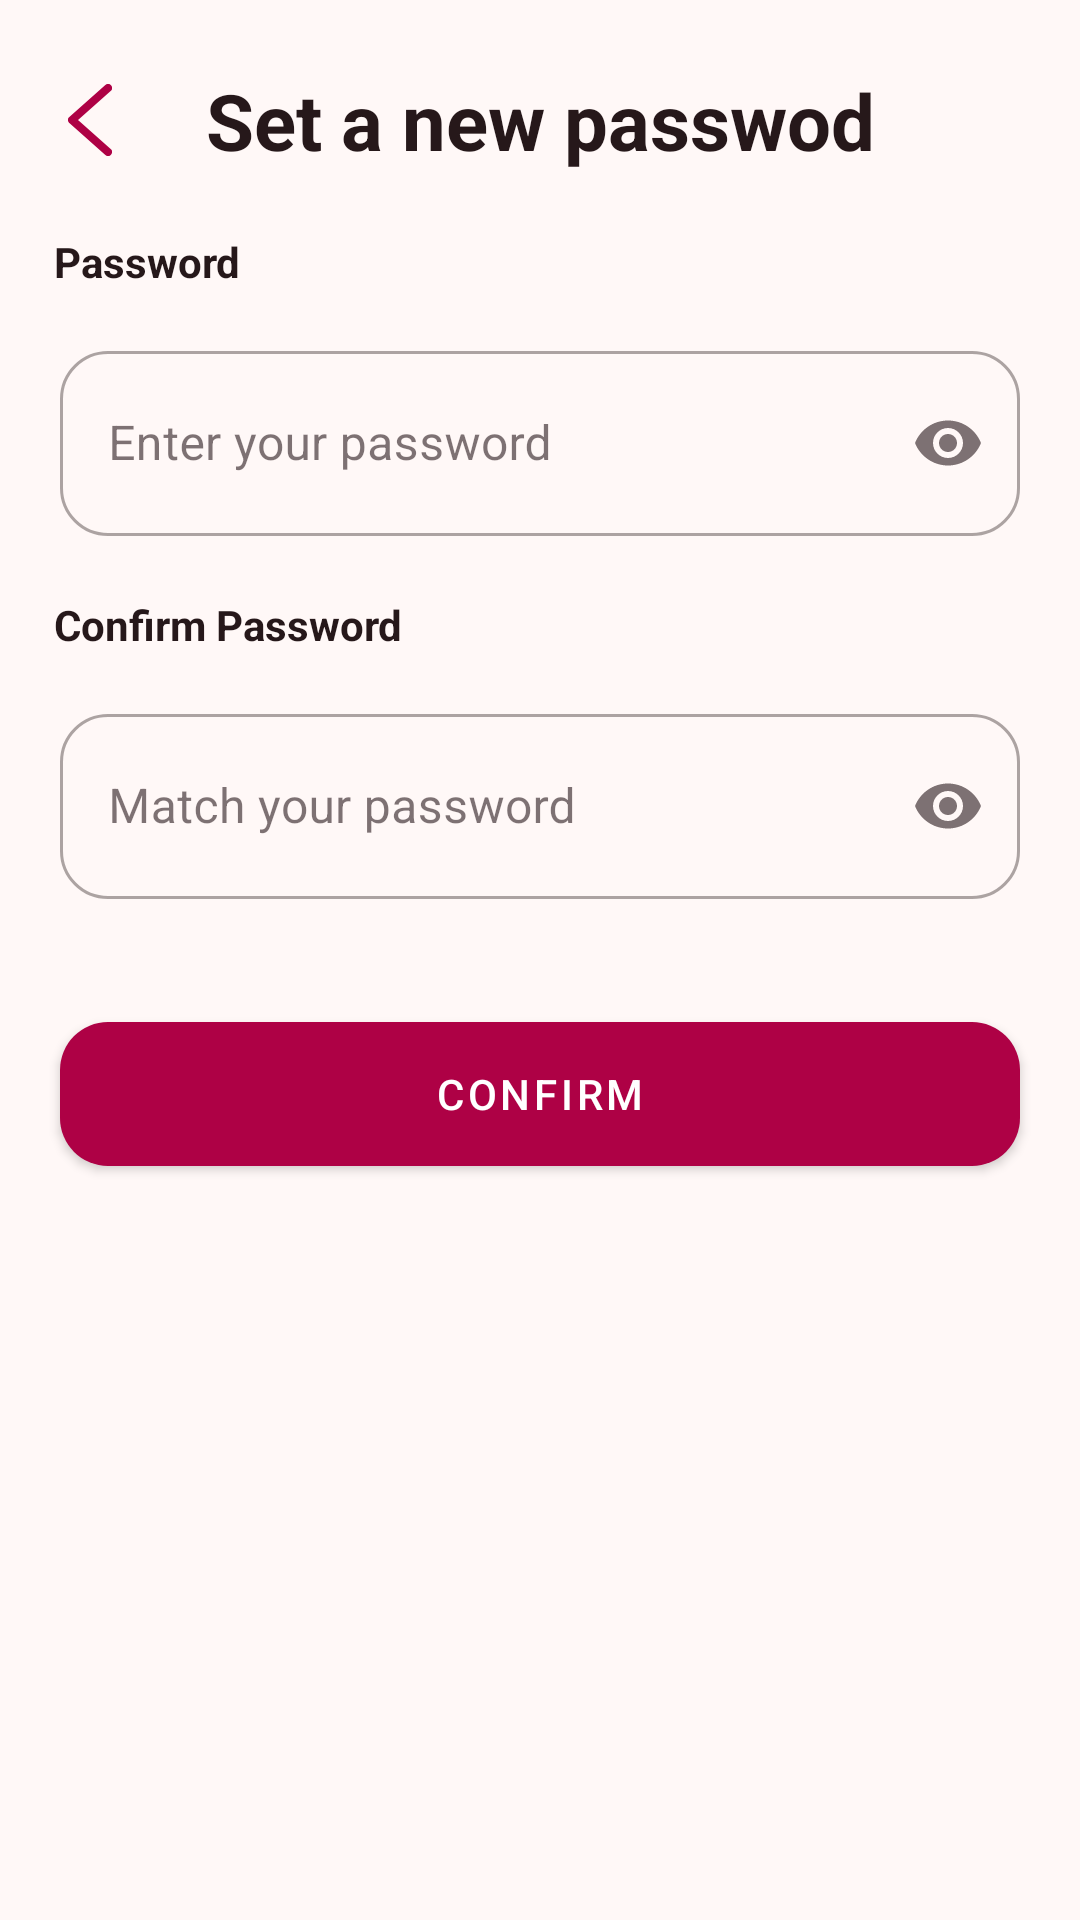

Icon bounding boxes for this 1080 × 1920 phone screenshot, format bbox(x1, y1, x2, y2):
back: bbox(68, 84, 112, 156)
